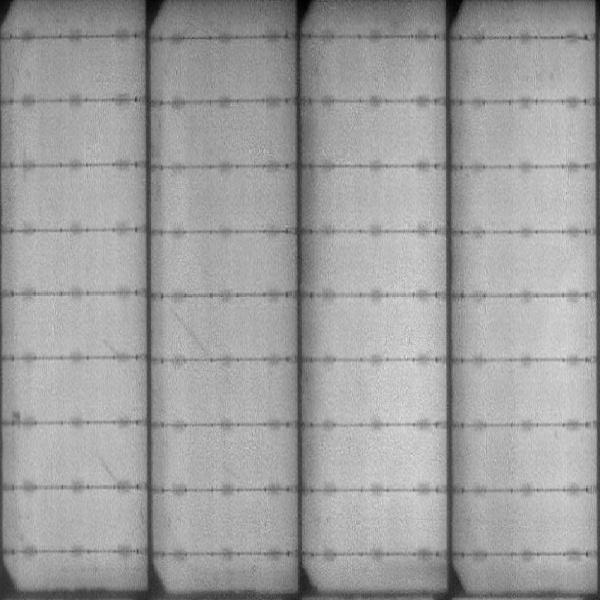scratch: (161, 309, 216, 355), (97, 452, 118, 483)
